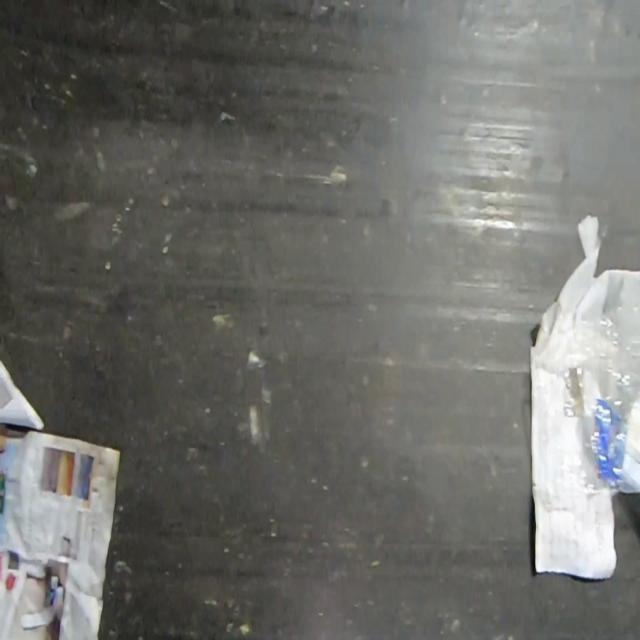soft_plastic: (542, 300, 640, 498)
